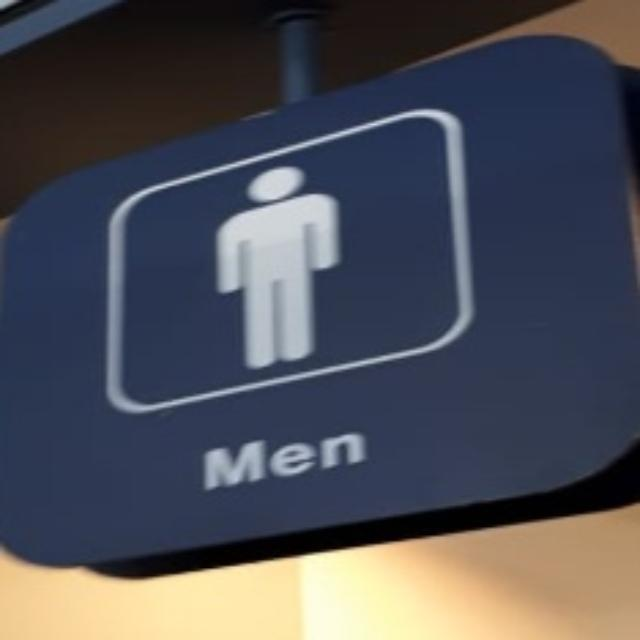wc nam: (0, 41, 637, 574)
